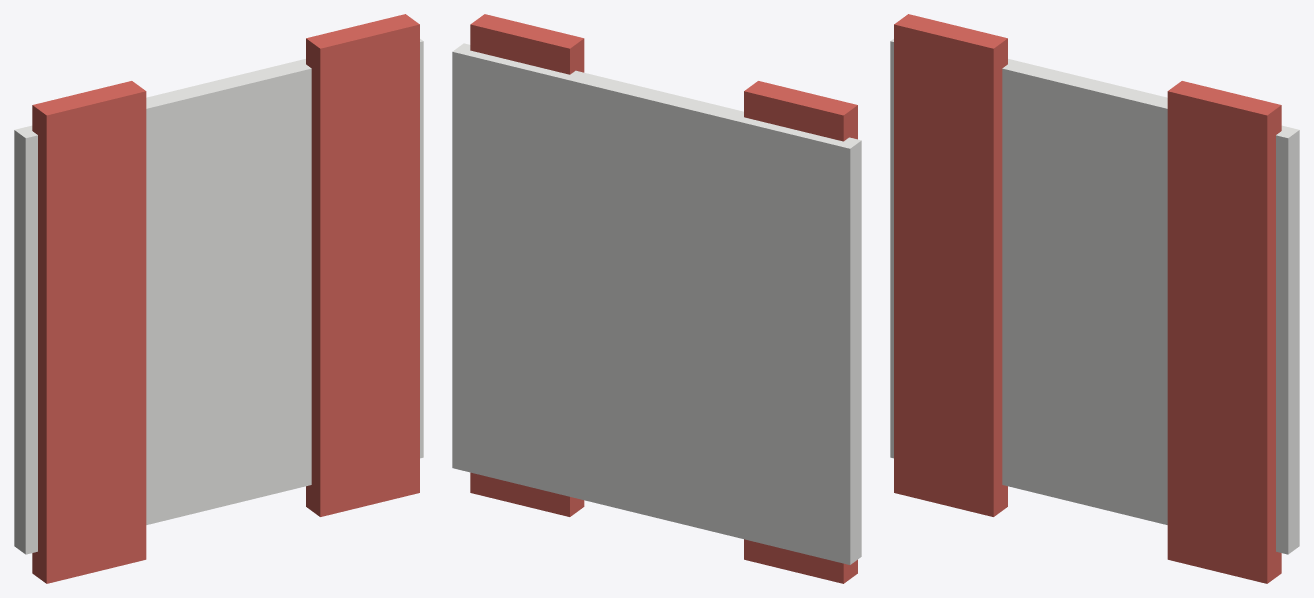
The model's file is blinds_curtains.glb.
3 renders of one model, left to right at view 1: azimuth 30°, elevation 25°; view 2: azimuth 150°, elevation 25°; view 3: azimuth 330°, elevation 25°, orthographic.
Parts seen in each view (by area): view 1: blind, curtain_l, curtain_r; view 2: blind, curtain_r, curtain_l; view 3: blind, curtain_r, curtain_l.
Part boxes in pixels (bbox=[...]): blind: bbox=[14, 39, 423, 554]; curtain_l: bbox=[32, 81, 146, 583]; curtain_r: bbox=[306, 14, 419, 516]; blind: bbox=[452, 43, 861, 564]; curtain_r: bbox=[470, 14, 584, 516]; curtain_l: bbox=[744, 81, 857, 583]; blind: bbox=[890, 39, 1299, 554]; curtain_r: bbox=[1167, 81, 1281, 583]; curtain_l: bbox=[894, 14, 1007, 516].
Size of the model in its own units: 1.6 by 1.8 by 0.1398.
